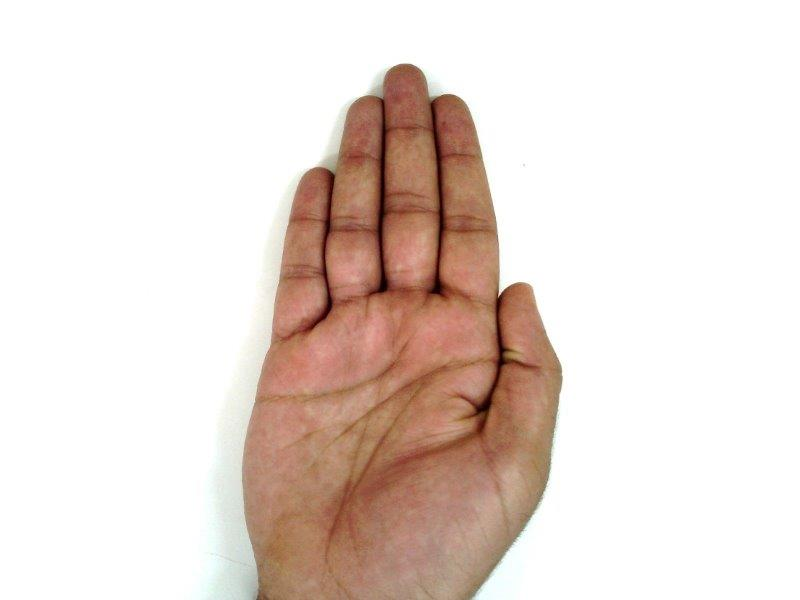hand: (241, 64, 562, 591)
